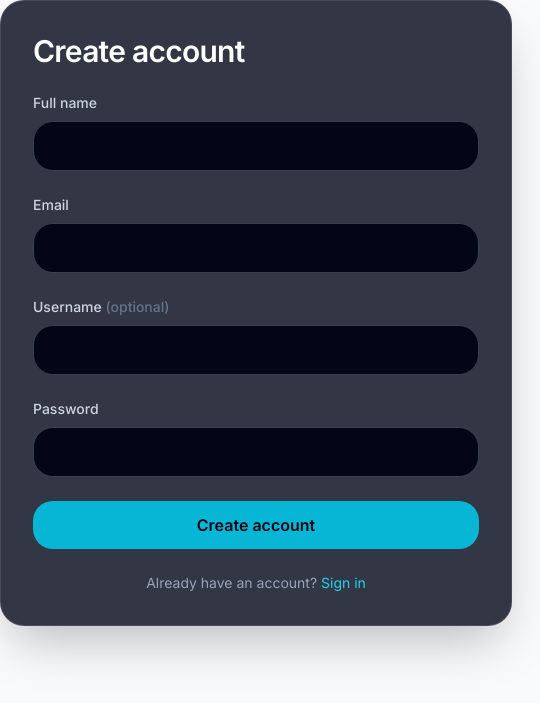
it: RegisterForm › shows validation error for short password
In the field labelled "Email": (256, 248) [33, 223, 479, 273], type "test@example.com"
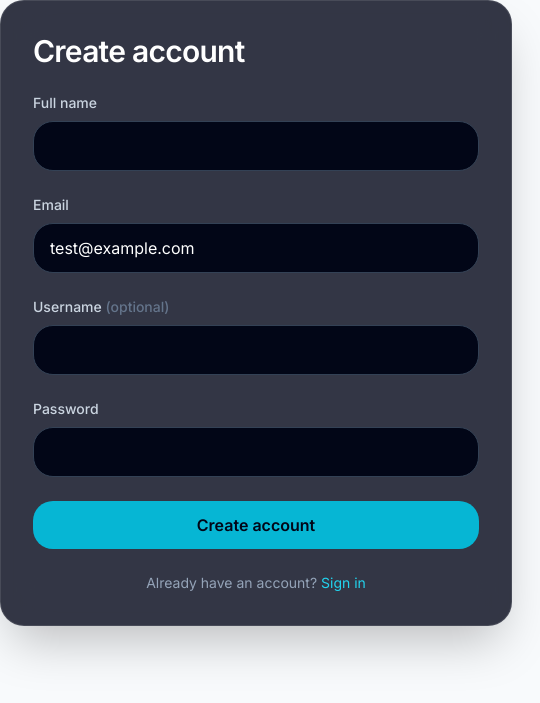
In the password field labelled "Password": (256, 452) [33, 427, 479, 477], type "short"
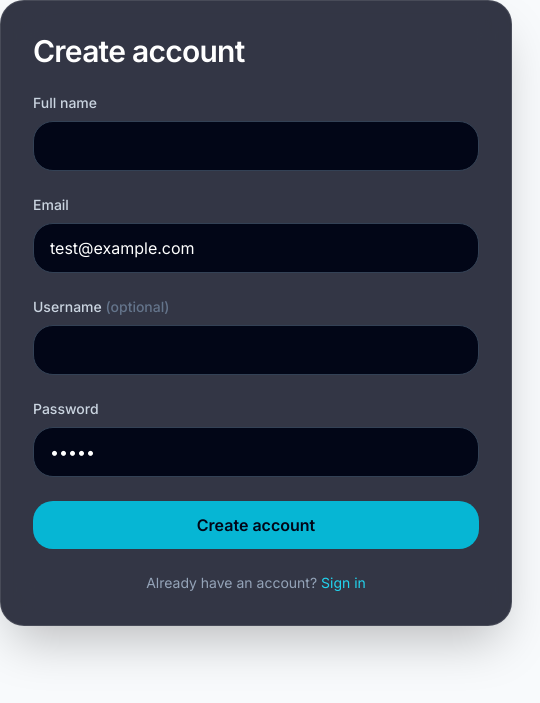
Click the button "Create account": (256, 525) [33, 501, 479, 549]
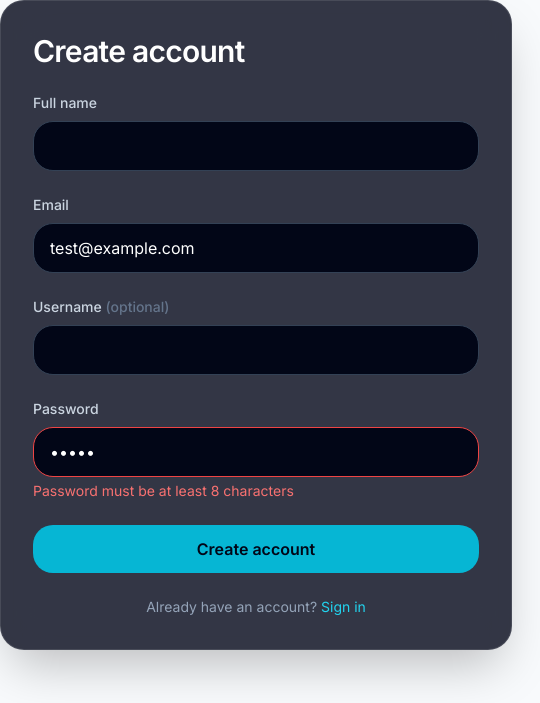
Check: the text "Password must be at least 8 characters" is shown, box [33, 482, 294, 499]
